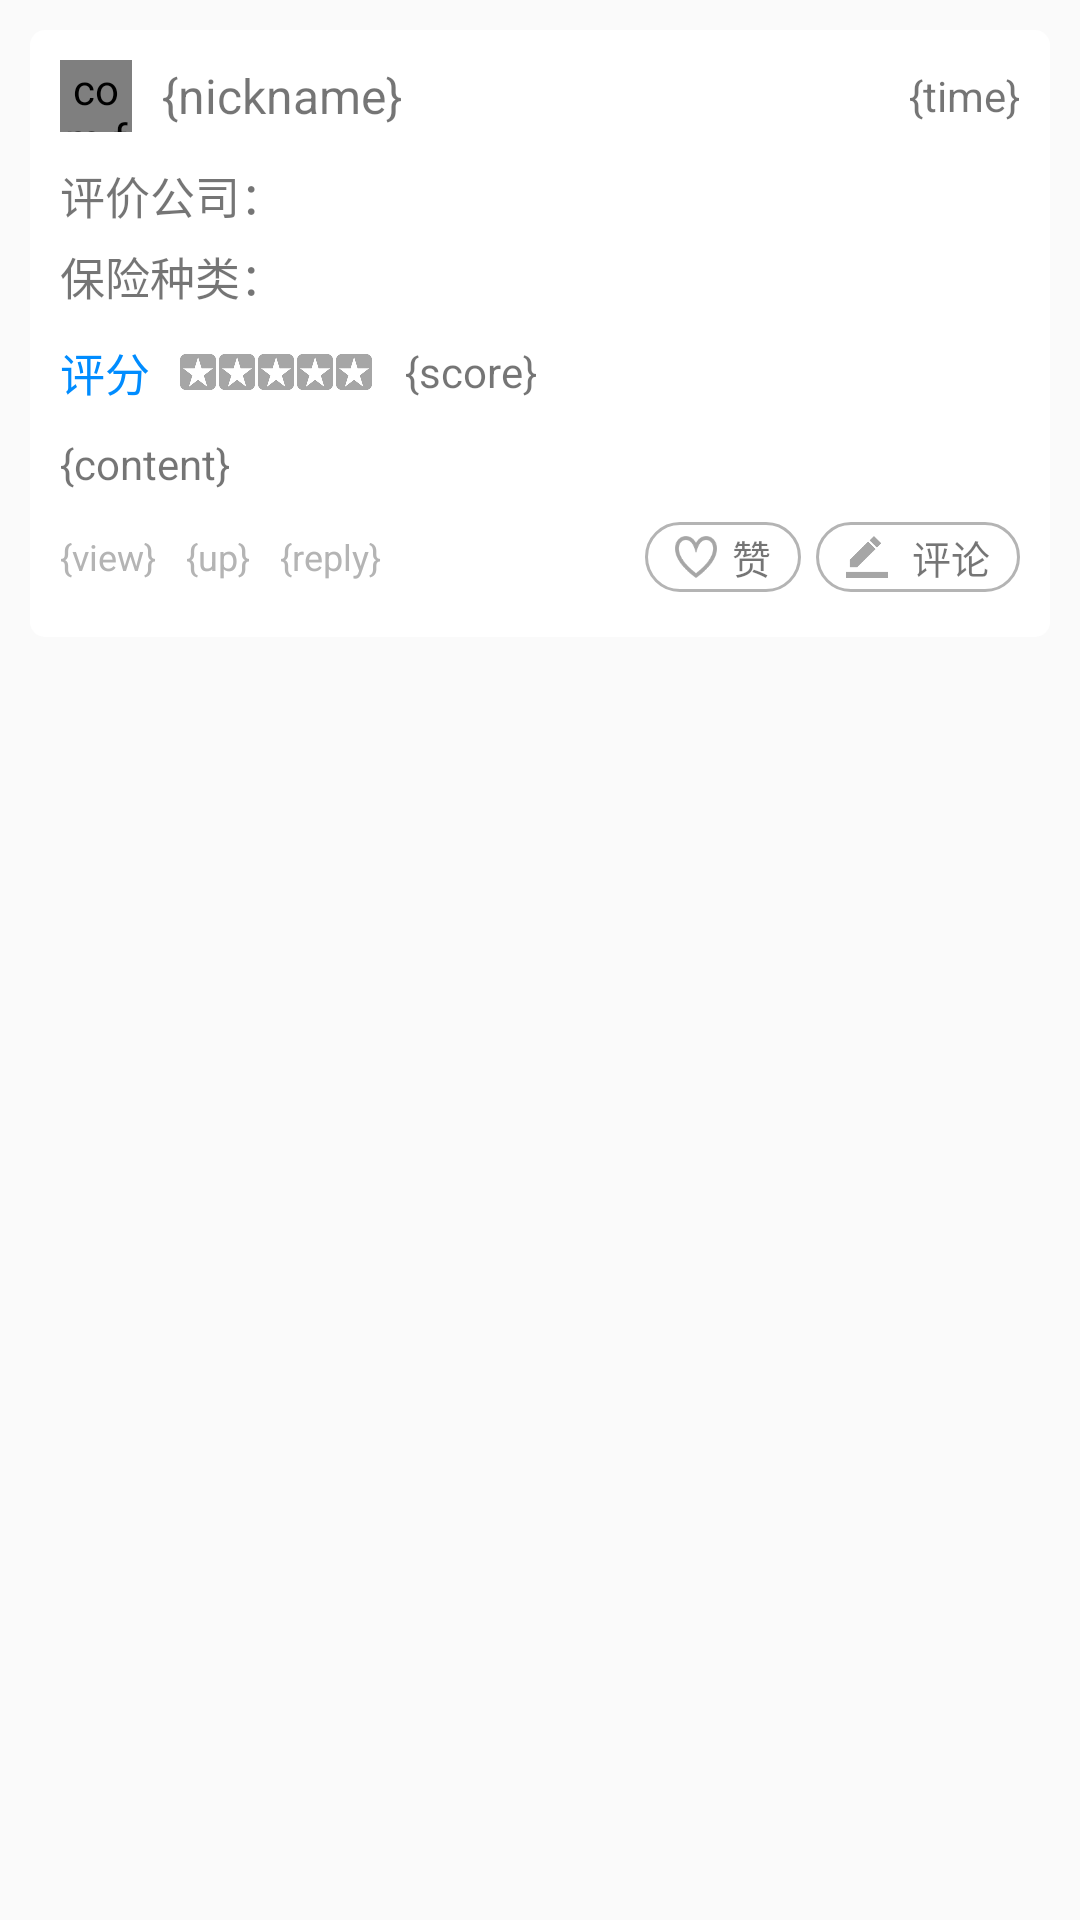

Where icons sit on this 1080w x 1920h app screen, as (x1, y1, x2, y2):
edit: (846, 536, 888, 578)
star: (180, 354, 216, 390), (219, 354, 255, 390), (258, 354, 294, 390), (297, 354, 333, 390), (336, 354, 372, 390)
